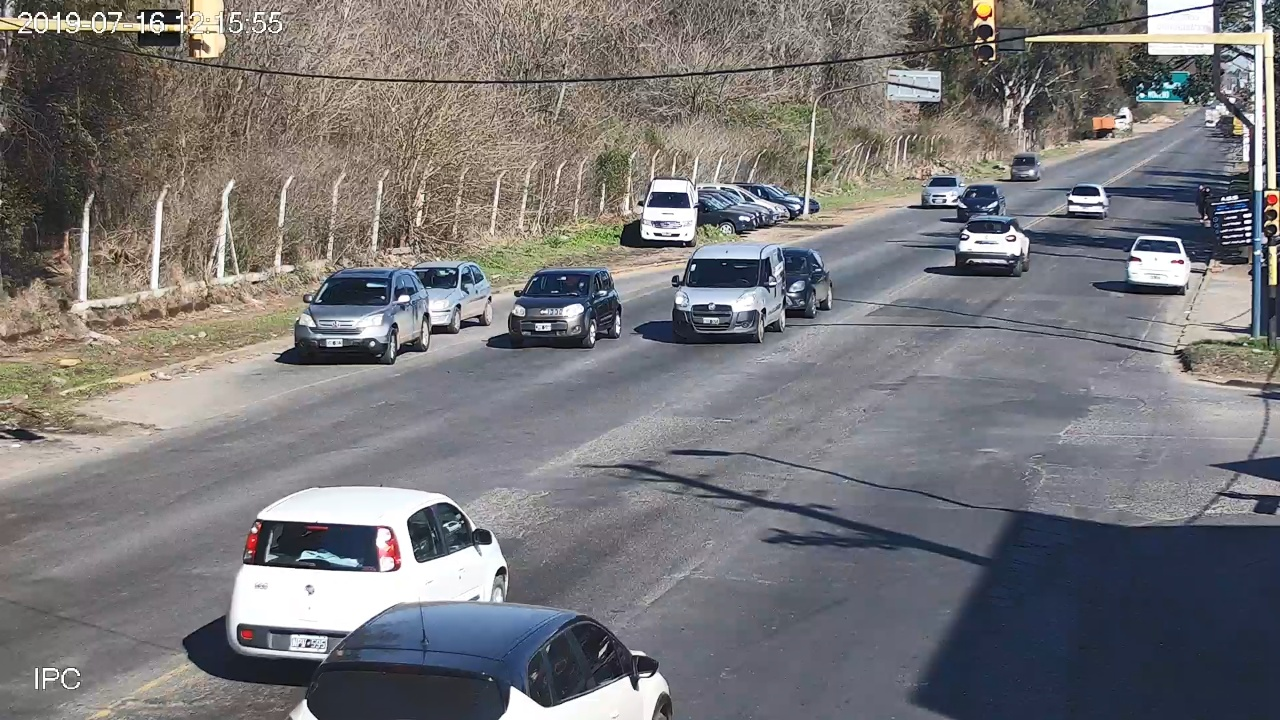car: (286, 602, 672, 720), (955, 216, 1030, 276), (1123, 234, 1194, 293), (1066, 184, 1111, 219)
front car: (295, 268, 431, 365), (672, 243, 786, 342), (508, 267, 622, 347)
traffic light: (973, 1, 995, 60), (1264, 191, 1278, 236)
